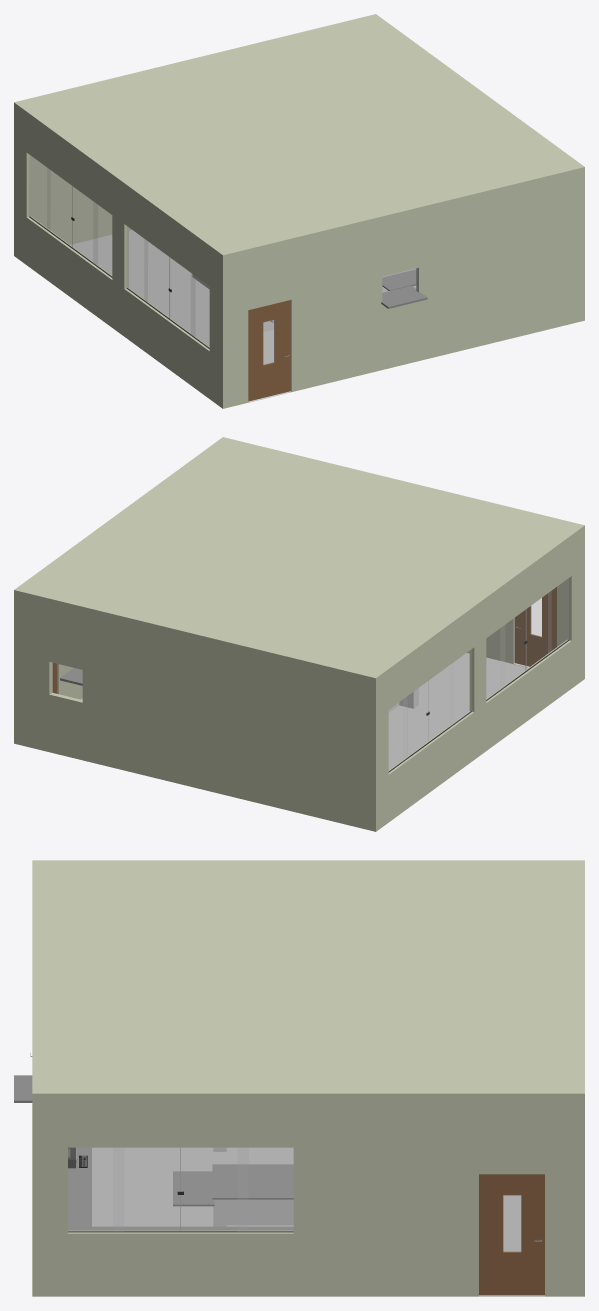
Rendered from SalaBiologia.fbx.
3 renders of one model, top to bottom at view 1: azimuth 30°, elevation 25°; view 2: azimuth 150°, elevation 25°; view 3: azimuth 270°, elevation 25°, orthographic. The views are drawn at different scales.
Visible parts, largest first — view 1: Paredes, Janela2, Janela3, Cube.009, Cube, Cube.002; view 2: Paredes, Janela2, Janela3, Cube.009; view 3: Paredes, Janela1, Cube.004, Cube, Cube.001.
Part boxes in pixels (<box>): Paredes: <box>14,14,584,408</box>; Janela2: <box>29,156,112,277</box>; Janela3: <box>126,227,209,348</box>; Cube.009: <box>248,300,290,401</box>; Cube: <box>192,268,416,332</box>; Cube.002: <box>381,285,427,308</box>; Paredes: <box>14,437,584,831</box>; Janela2: <box>388,650,471,772</box>; Janela3: <box>486,579,569,700</box>; Cube.009: <box>514,587,556,666</box>; Paredes: <box>32,860,584,1296</box>; Janela1: <box>68,1147,293,1232</box>; Cube.004: <box>479,1174,544,1295</box>; Cube: <box>173,1147,293,1226</box>; Cube.001: <box>68,1147,293,1230</box>.
Bounding box in the file's own units: 6847 × 2769 × 7053.
